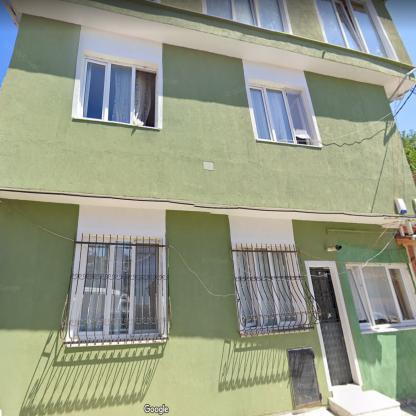door: (310, 266, 353, 384)
window: (78, 242, 158, 333), (83, 59, 157, 126), (240, 252, 296, 327), (317, 1, 389, 58), (349, 269, 413, 326), (251, 87, 309, 144), (207, 0, 285, 31)
